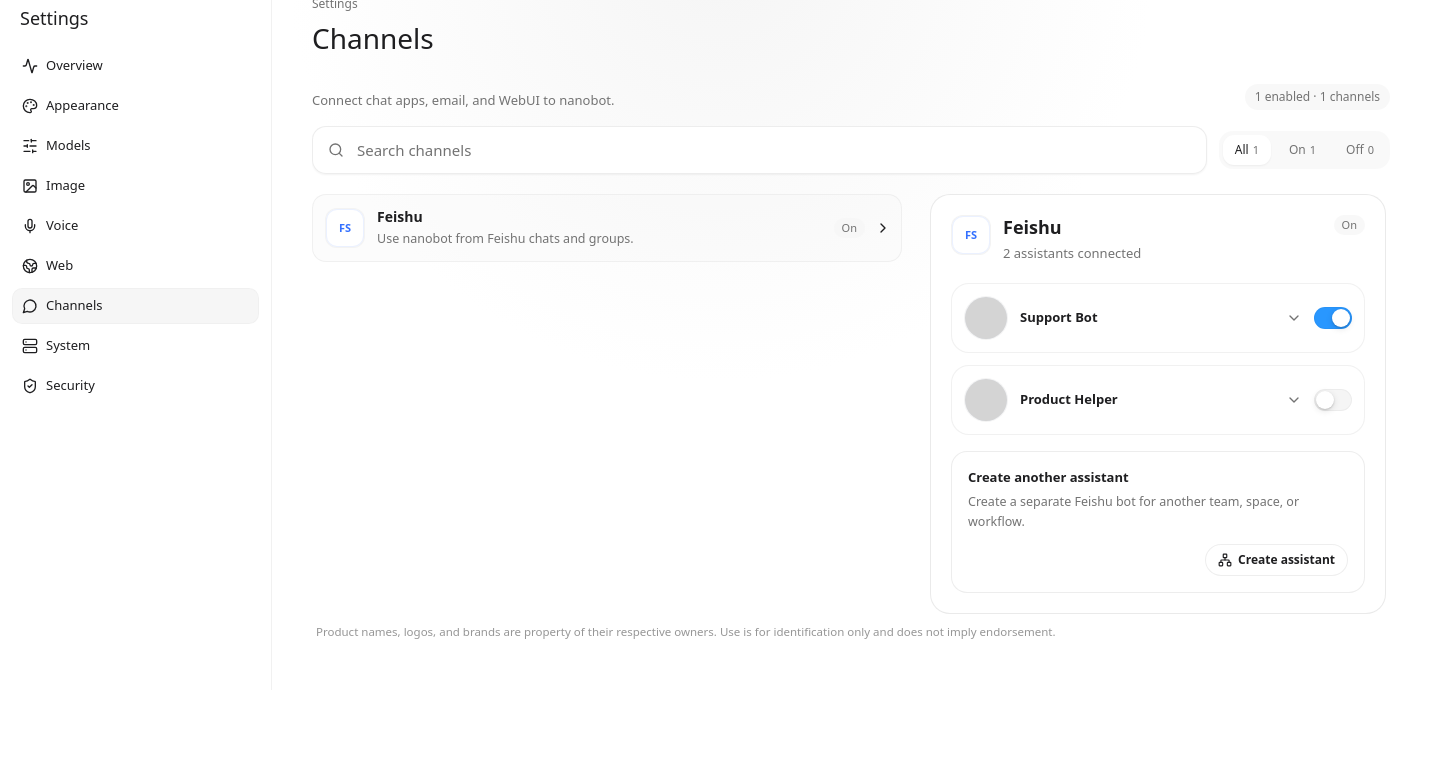
Test: SettingsView Apps catalog › shows Feishu assistant instances in the channel details
The width and height of the screenshot is (1440, 757).
Expected: the text "Product Helper" is shown, x1=1020 y1=390 x2=1118 y2=408
Expected: the text "Support Bot" is shown once, x1=1020 y1=308 x2=1098 y2=326
What coordinates should you click on to do the following:
click the button "Support Bot"
I would click on:
 (986, 318)
Its box is x1=964 y1=296 x2=1302 y2=340.
(page scrolled)
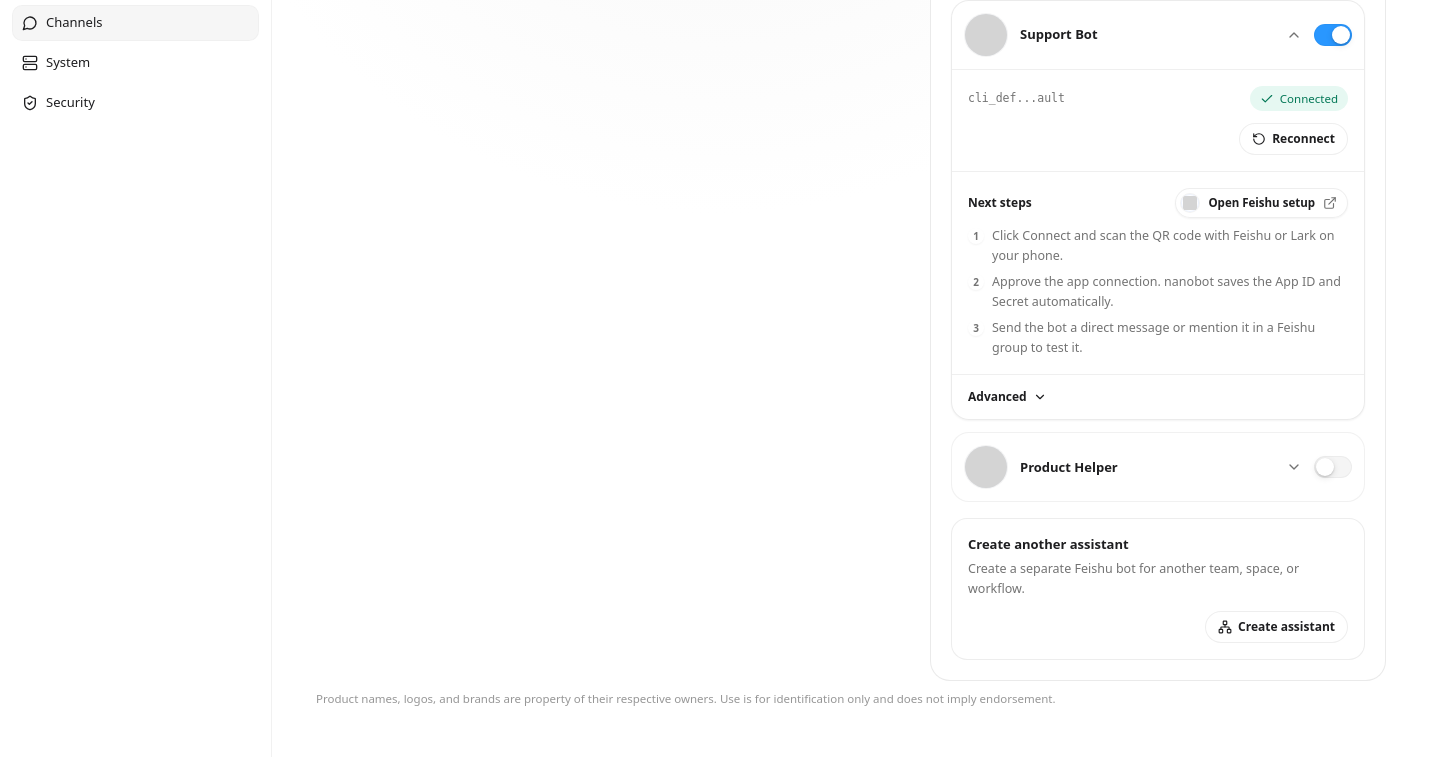
Now the button "Support Bot" is expanded, box x1=964 y1=13 x2=1302 y2=57
Now the text "cli_def...ault" is shown, box x1=968 y1=91 x2=1065 y2=105
What coordinates should you click on to do the following:
click the button "Product Helper"
I would click on:
 (986, 467)
Its box is x1=964 y1=445 x2=1302 y2=489.
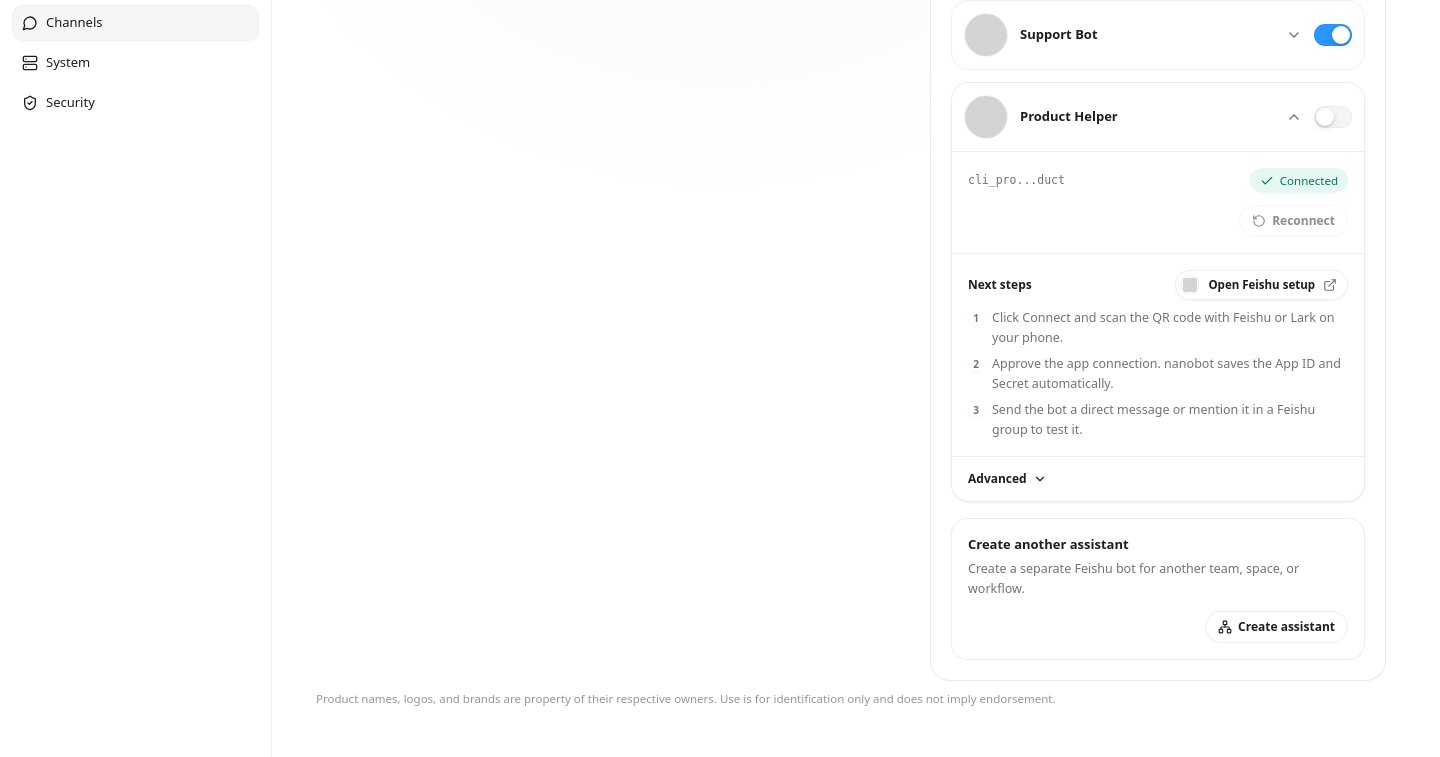
Now the button "Support Bot" is collapsed, box x1=964 y1=13 x2=1302 y2=57
Now the button "Product Helper" is expanded, box x1=964 y1=95 x2=1302 y2=139
